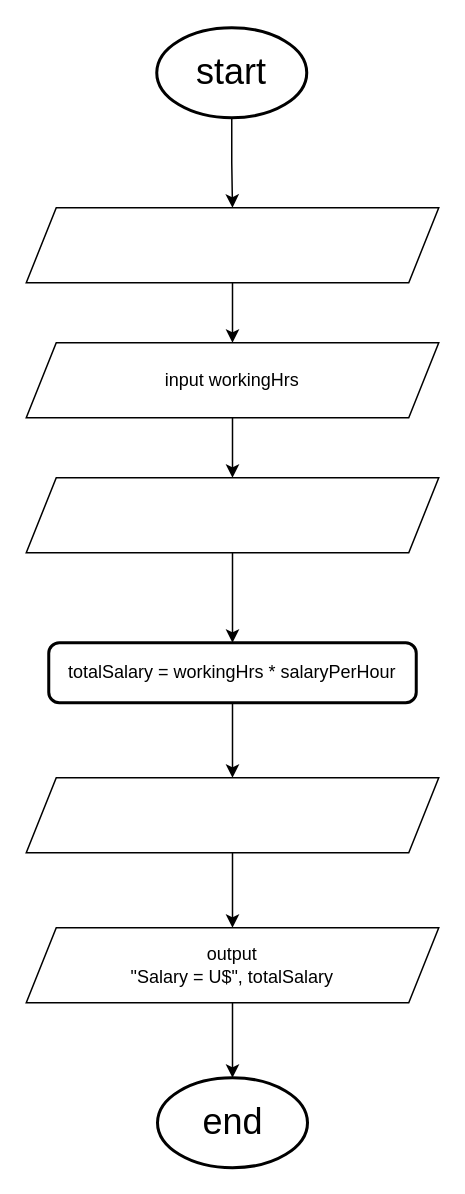
Image size: 465x1194. Some labels were removed from this diagram. The box of each missing label's shape, as (x1, y1, x2, y2) in pixels:
input employeeID: (25, 206, 439, 283)
input salaryPerHour: (25, 476, 439, 553)
output "Employee ID = ", employeeID: (25, 776, 439, 853)
